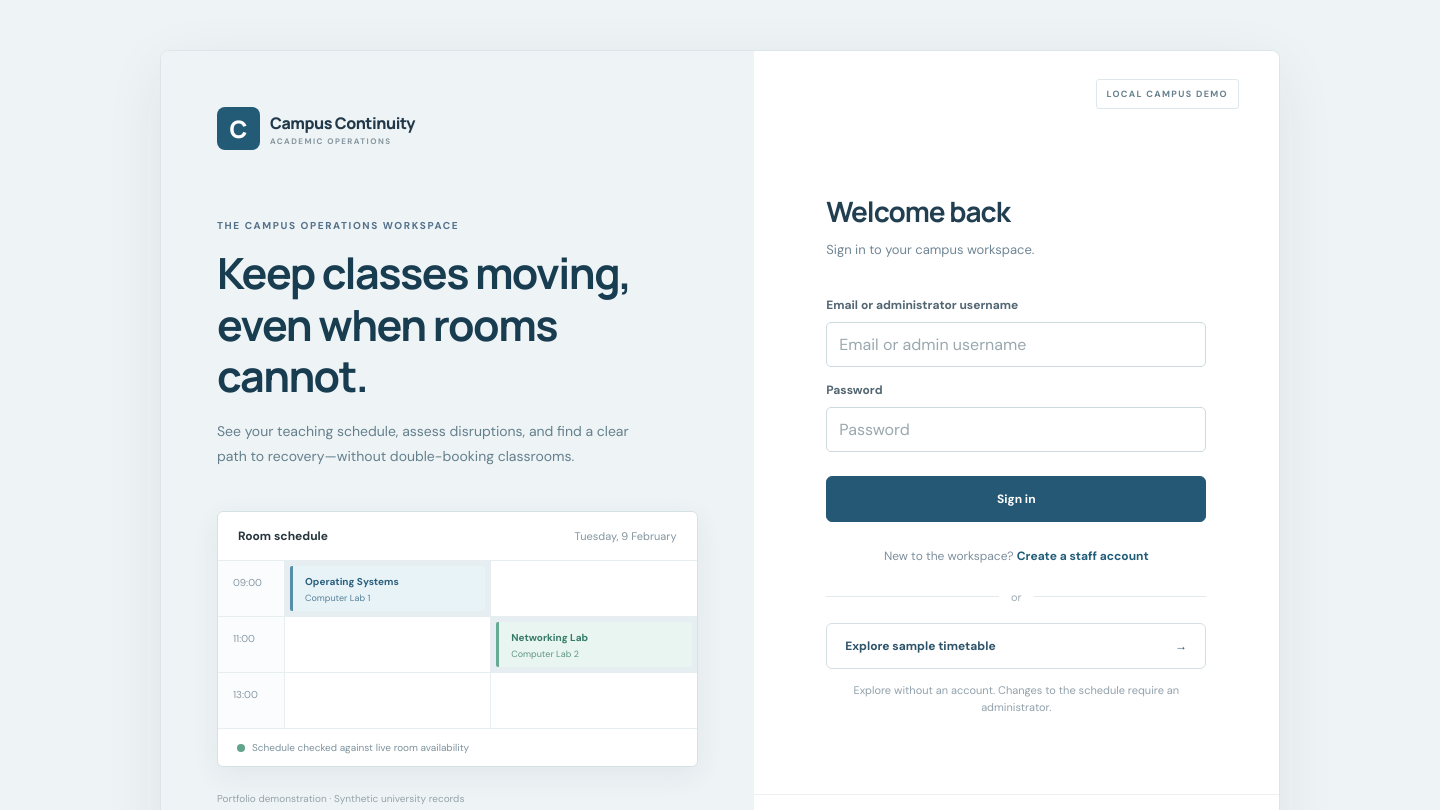
Scenario: redesigned campus portal › shows a dedicated login and account-creation path
The width and height of the screenshot is (1440, 810).
Check: the heading "Welcome back" is shown, box [826,192,1010,230]
Click the button "Create a staff account". click: (1083, 556)
box: [1017,544,1149,568]
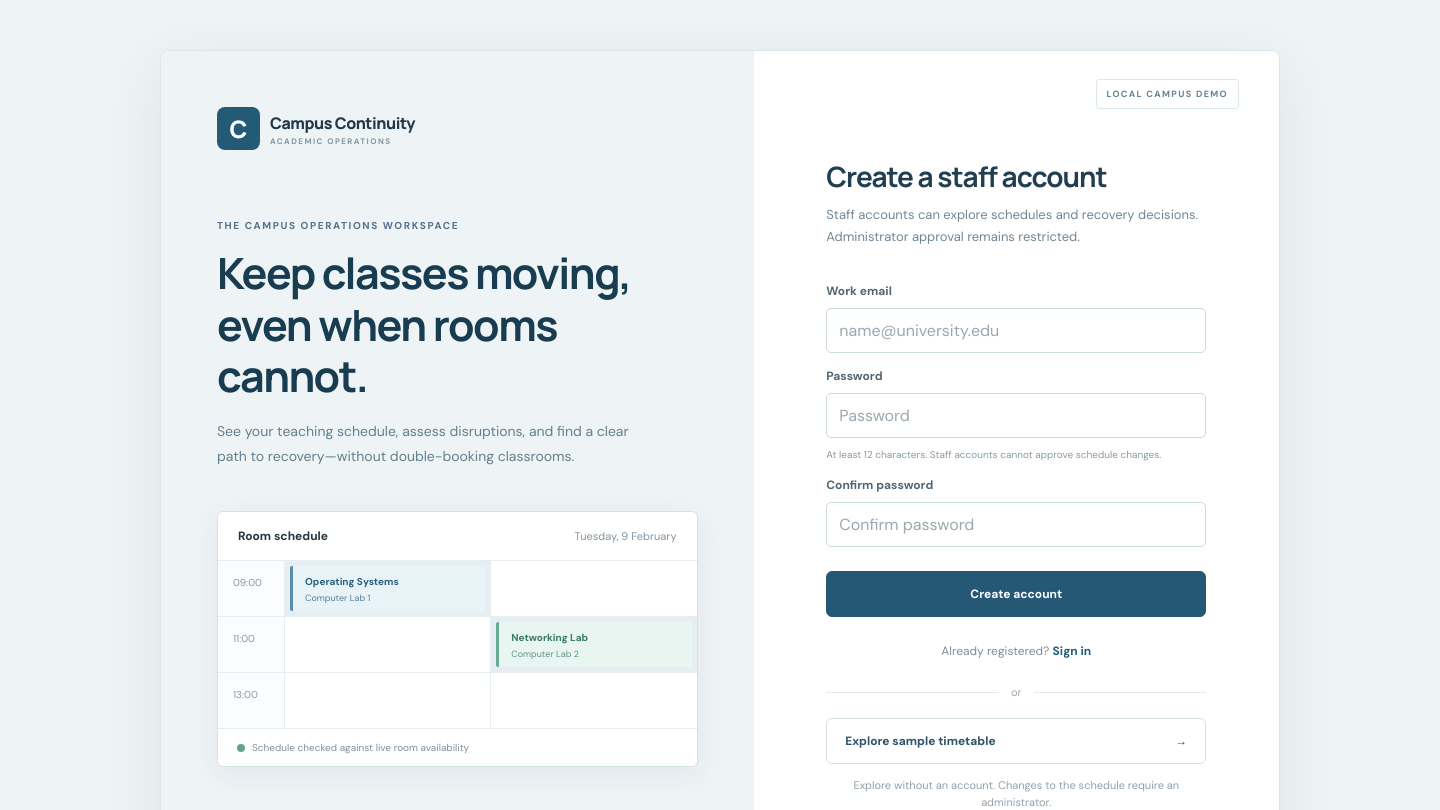
Check: the heading "Create a staff account" is shown, box [826,157,1107,195]
Check: the text "Staff accounts cannot approve" is shown, box [826,448,1161,461]
